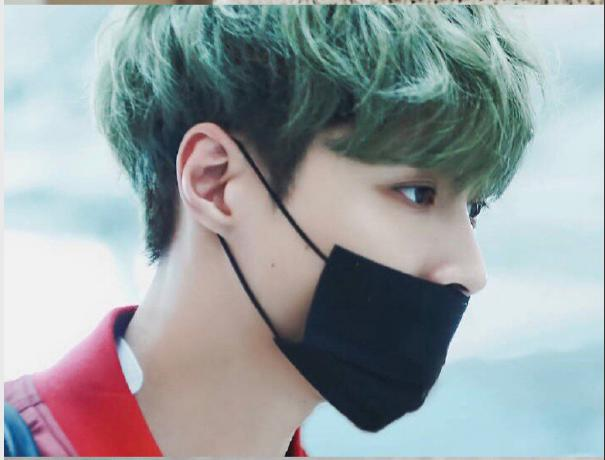WRONG: (288, 87, 501, 431)
